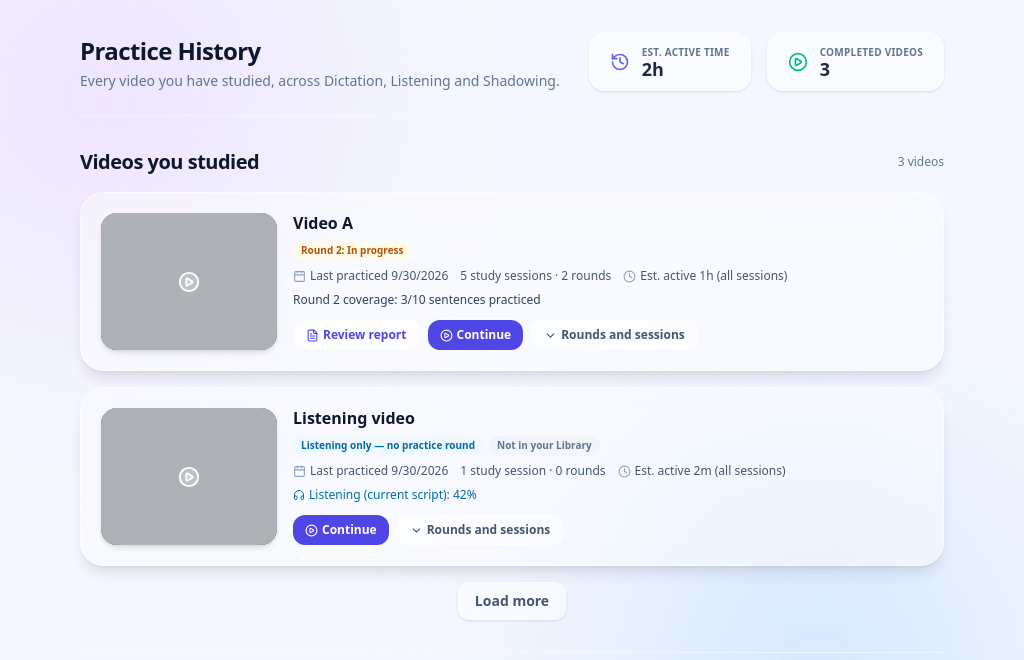
round 1 stays readable after round 2 starts › no separate earlier-report button; choosing round 1 makes the card's normal 'Review report' open round 1, whose report is its own
Click the button "Rounds and sessions" in the row of "Review report": {"x": 614, "y": 335} x1=531 y1=320 x2=698 y2=350
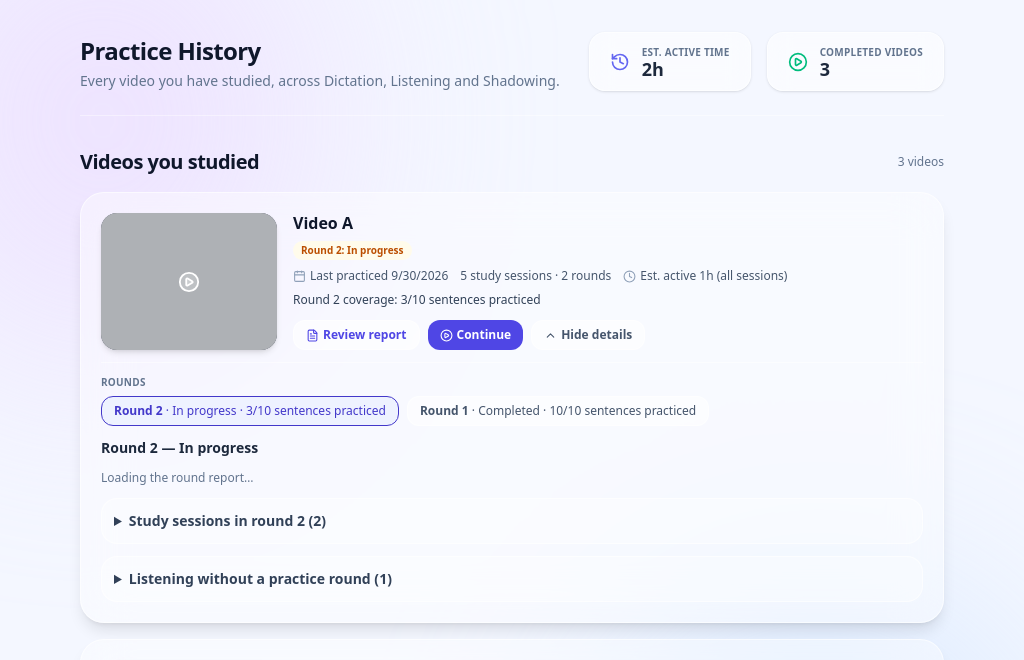
Click the button "Round 1 · Completed · 10/10 sentences practiced": {"x": 558, "y": 411} x1=407 y1=396 x2=709 y2=426
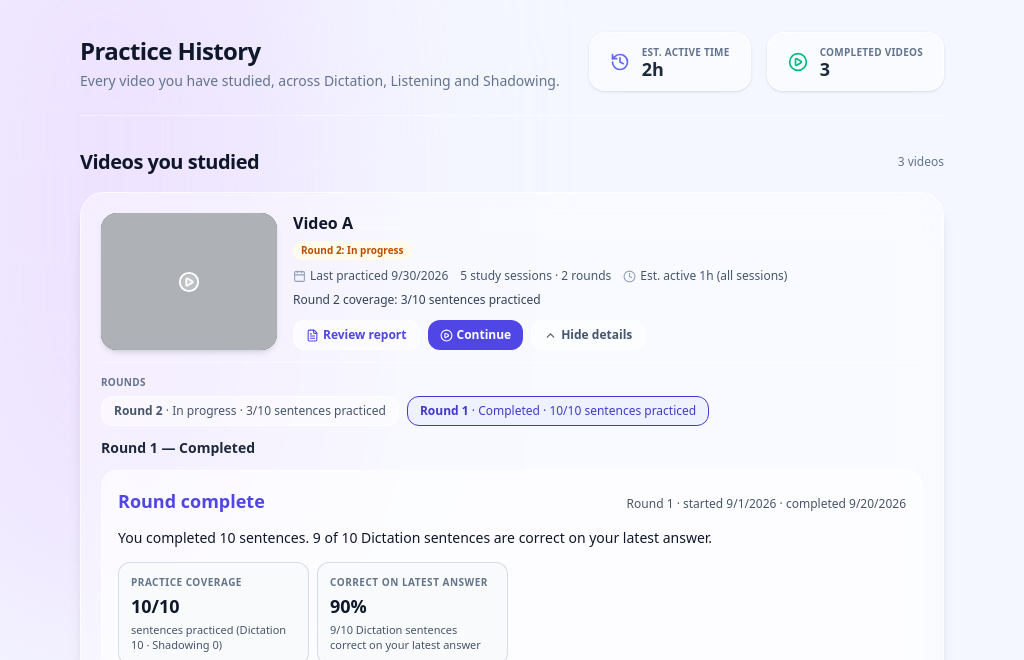
Expected: the element with test id "report-accuracy" shows "90%", x1=330 y1=594 x2=367 y2=618
